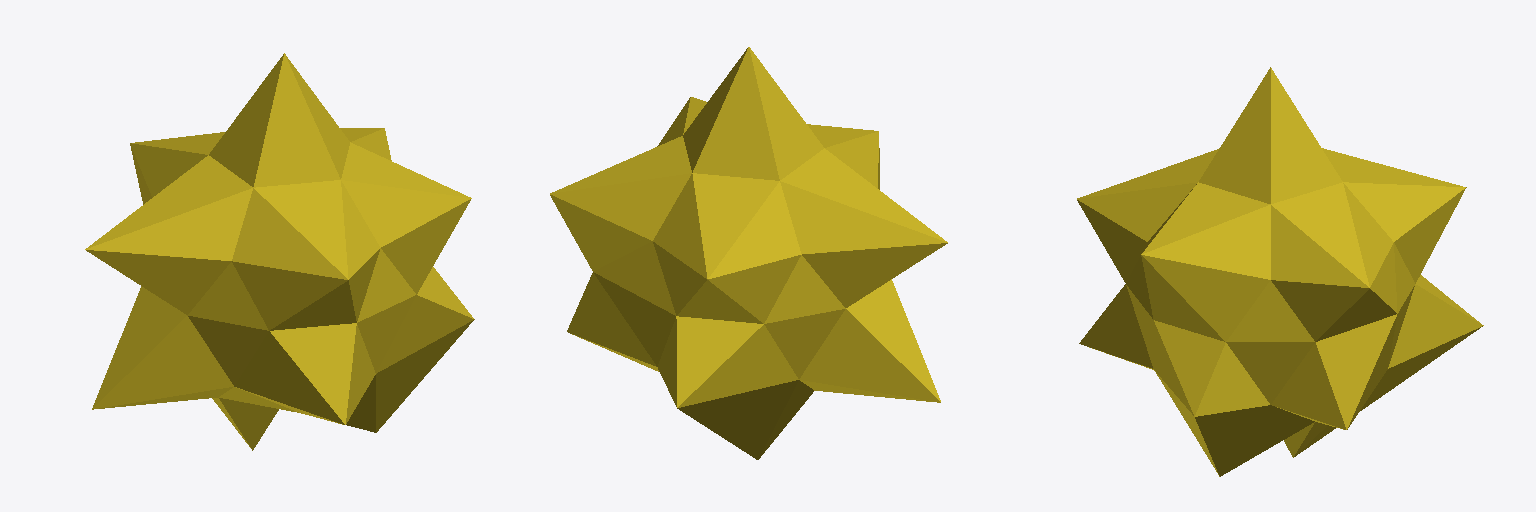
3 views of the same model, side by side, from view 1: azimuth 30°, elevation 25°; view 2: azimuth 150°, elevation 25°; view 3: azimuth 270°, elevation 25° (orthographic).
Visible parts, largest first — view 1: ICO球; view 2: ICO球; view 3: ICO球.
Boxes of the visible parts, x1=… form: ICO球: x1=85, y1=53, x2=474, y2=450; ICO球: x1=550, y1=47, x2=947, y2=459; ICO球: x1=1077, y1=67, x2=1483, y2=476.
Size of the model in its own units: 2.81 by 3.06 by 2.81.
Materials: 1 (1 with a texture image).